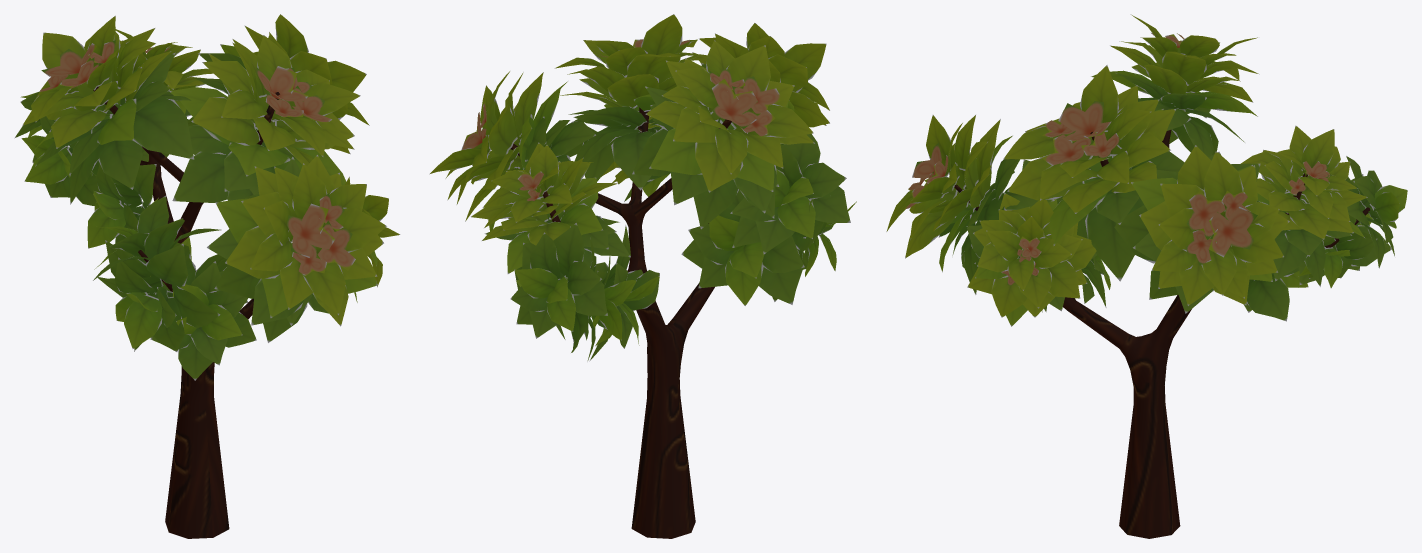
File: Town_Trees_DarkGreen_3.glb
3 renders of one model, left to right at view 1: azimuth 30°, elevation 25°; view 2: azimuth 150°, elevation 25°; view 3: azimuth 270°, elevation 25°, orthographic. The views are drawn at different scales.
Visible parts, largest first — view 1: Object_6.002; view 2: Object_6.002; view 3: Object_6.002.
Boxes of the visible parts, x1,y1,x2,y2 form: Object_6.002: [14, 14, 400, 538]; Object_6.002: [429, 14, 856, 538]; Object_6.002: [886, 14, 1407, 538].
Size of the model in its own units: 81.79 by 116 by 116.
